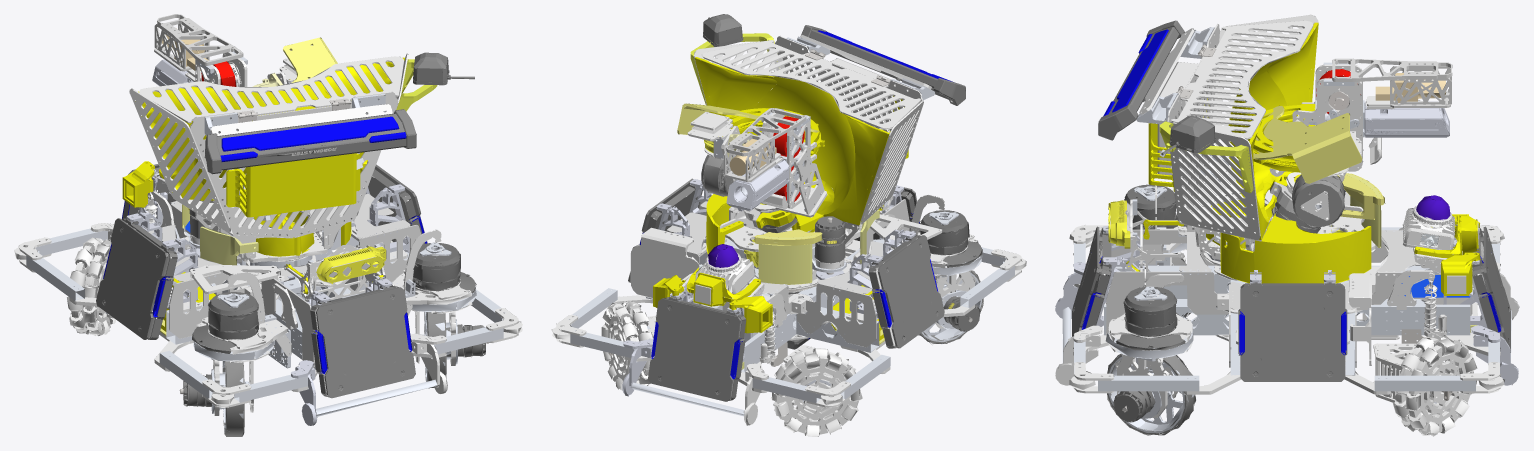
Rendered from 24sentry_simplified.glb.
3 views of the same model, side by side, from view 1: azimuth 30°, elevation 25°; view 2: azimuth 150°, elevation 25°; view 3: azimuth 270°, elevation 25° (orthographic). The views are drawn at different scales.
Parts seen in each view (by area): view 1: CHASSIS, YAW_BASE, GIMBAL_MAIN; view 2: CHASSIS, YAW_BASE, GIMBAL_MAIN; view 3: CHASSIS, YAW_BASE, GIMBAL_MAIN.
Boxes of the visible parts, x1,y1,x2,y2 form: CHASSIS: (14, 161, 522, 436); YAW_BASE: (129, 37, 474, 281); GIMBAL_MAIN: (152, 14, 364, 220); CHASSIS: (551, 178, 1026, 436); YAW_BASE: (677, 14, 965, 297); GIMBAL_MAIN: (687, 108, 889, 232); CHASSIS: (1055, 178, 1519, 436); YAW_BASE: (1098, 14, 1385, 283); GIMBAL_MAIN: (1159, 58, 1452, 244).
Size of the model in its own units: 0.4755 by 0.4544 by 0.5967.
